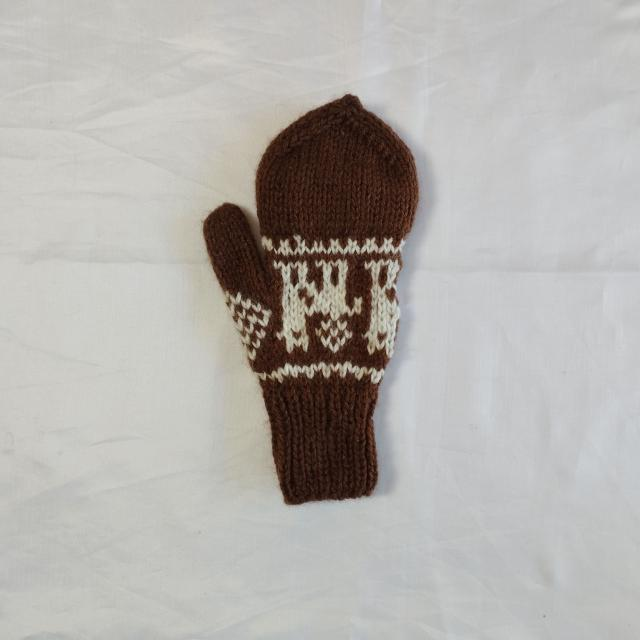Guante: (201, 92, 420, 505)
